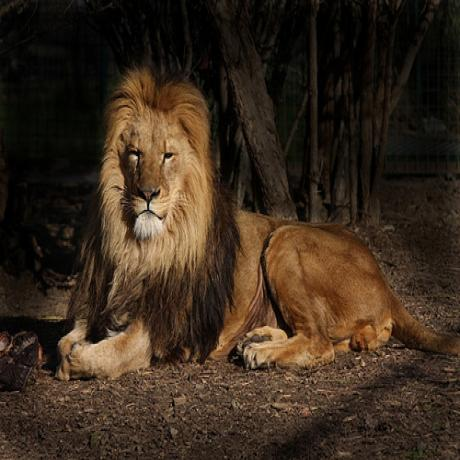Lion: (56, 65, 460, 381)
